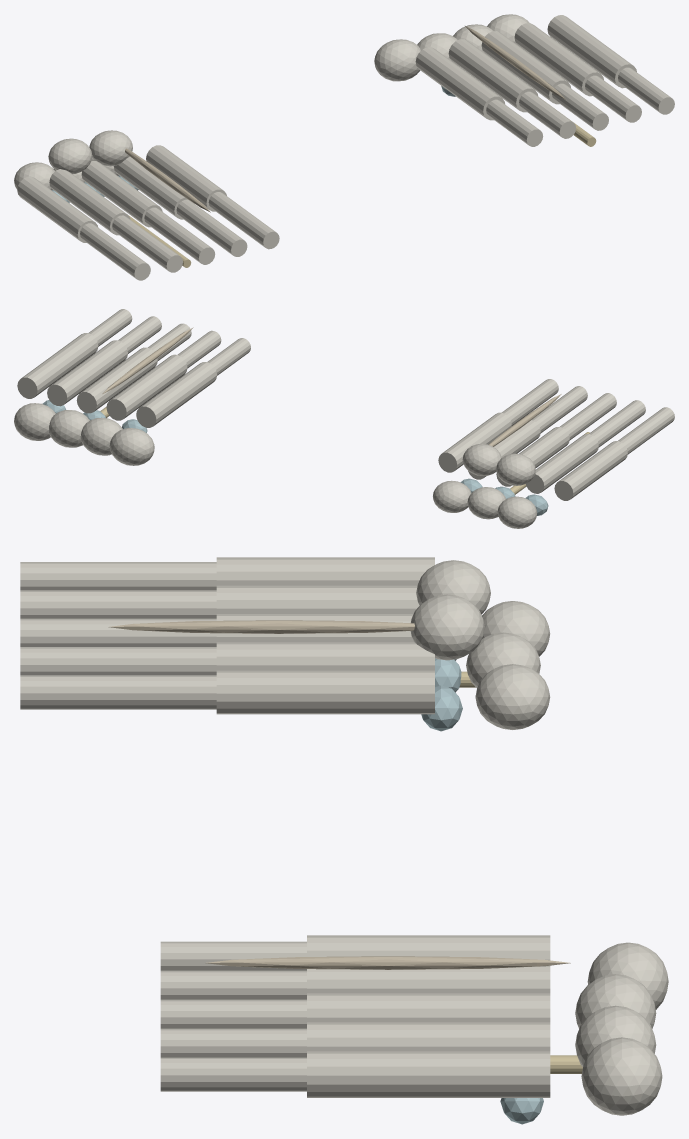
Rendered from hand-foot-medium.glb.
3 views of the same model, one above another, from view 1: azimuth 30°, elevation 25°; view 2: azimuth 150°, elevation 25°; view 3: azimuth 270°, elevation 25° (orthographic). The views are drawn at different scales.
Parts seen in each view (by area): view 1: metatarsal_1, metatarsal_4, metatarsal_2, metatarsal_5, metacarpal_1, metacarpal_2, metacarpal_3, metatarsal_3, metacarpal_5, metacarpal_4, tarsal_1, hand_finger_1 (+17 smaller); view 2: metatarsal_2, metatarsal_4, metatarsal_1, metatarsal_5, metatarsal_3, metacarpal_1, metacarpal_2, metacarpal_5, tarsal_1, tarsal_4, tarsal_3, tarsal_2 (+19 smaller); view 3: metatarsal_5, metacarpal_5, metatarsal_4, metatarsal_3, hand_finger_5, metatarsal_2, metacarpal_4, metacarpal_1, metacarpal_2, hand_finger_4, hand_finger_2, hand_finger_1 (+21 smaller).
Part boxes in pixels (left/top/right/bottom): metatarsal_1: left=415, top=47, right=505, bottom=120; metatarsal_4: left=514, top=23, right=603, bottom=96; metatarsal_2: left=448, top=39, right=538, bottom=112; metatarsal_5: left=547, top=15, right=636, bottom=88; metacarpal_1: left=17, top=176, right=98, bottom=242; metacarpal_2: left=49, top=169, right=130, bottom=235; metacarpal_3: left=81, top=161, right=162, bottom=227; metatarsal_3: left=481, top=31, right=571, bottom=104; metacarpal_5: left=146, top=145, right=226, bottom=211; metacarpal_4: left=113, top=156, right=194, bottom=219; tarsal_1: left=374, top=39, right=420, bottom=81; hand_finger_1: left=80, top=223, right=150, bottom=280; metatarsal_2: left=106, top=354, right=187, bottom=420; metatarsal_4: left=47, top=340, right=127, bottom=406; metatarsal_1: left=136, top=362, right=216, bottom=427; metatarsal_5: left=17, top=333, right=98, bottom=398; metatarsal_3: left=76, top=347, right=157, bottom=413; metacarpal_1: left=554, top=441, right=627, bottom=500; metacarpal_2: left=526, top=434, right=598, bottom=493; metacarpal_5: left=438, top=412, right=511, bottom=472; tarsal_1: left=109, top=428, right=154, bottom=465; tarsal_4: left=14, top=403, right=55, bottom=440; tarsal_3: left=49, top=410, right=89, bottom=447; tarsal_2: left=80, top=417, right=122, bottom=455; metatarsal_5: left=307, top=1051, right=550, bottom=1097; metacarpal_5: left=216, top=670, right=434, bottom=714; metatarsal_4: left=307, top=1022, right=550, bottom=1051; metatarsal_3: left=307, top=993, right=550, bottom=1022; hand_finger_5: left=20, top=675, right=216, bottom=709; metatarsal_2: left=307, top=965, right=550, bottom=993; metacarpal_4: left=216, top=642, right=434, bottom=670; metacarpal_1: left=216, top=557, right=434, bottom=585; metacarpal_2: left=216, top=585, right=419, bottom=613; hand_finger_4: left=20, top=647, right=216, bottom=675; hand_finger_2: left=20, top=590, right=216, bottom=618; hand_finger_1: left=20, top=562, right=216, bottom=590.
Size of the model in its own units: 3.91 by 0.43 by 2.08.
